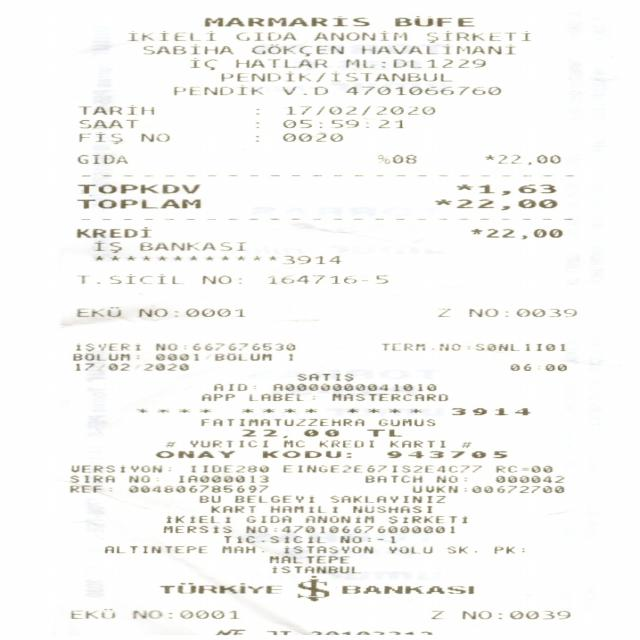text: (220, 71, 450, 81), (199, 15, 375, 27), (242, 525, 454, 533), (282, 464, 480, 472), (360, 44, 513, 54), (434, 198, 556, 210), (341, 58, 484, 68), (78, 273, 188, 286), (283, 106, 432, 115), (159, 582, 280, 593), (200, 418, 362, 426), (272, 383, 433, 391), (280, 119, 405, 129), (345, 86, 499, 94), (77, 183, 196, 193), (426, 31, 529, 42), (78, 199, 200, 208), (94, 254, 276, 260), (130, 609, 239, 619), (138, 241, 245, 251), (249, 44, 341, 55), (458, 610, 570, 619), (465, 308, 575, 317), (136, 308, 245, 317), (456, 184, 554, 194), (266, 275, 387, 283), (154, 343, 292, 350), (128, 485, 266, 492), (386, 450, 505, 458), (472, 484, 567, 494), (312, 30, 406, 40), (169, 85, 263, 95), (330, 393, 446, 401), (234, 58, 326, 68), (469, 228, 561, 238), (75, 226, 151, 238), (342, 586, 472, 593), (242, 429, 340, 438), (393, 15, 473, 26), (128, 30, 213, 40), (78, 104, 152, 115), (142, 44, 232, 53), (70, 464, 170, 472), (223, 535, 323, 543), (75, 363, 186, 370), (483, 154, 559, 164), (474, 344, 565, 352), (104, 546, 206, 553), (282, 545, 370, 553), (261, 450, 348, 458), (329, 496, 443, 502), (154, 450, 234, 458), (351, 505, 430, 513), (450, 407, 528, 415), (189, 440, 267, 448), (178, 475, 266, 482), (279, 254, 340, 264), (190, 464, 266, 472), (272, 566, 358, 573), (411, 484, 471, 494), (74, 132, 121, 144), (281, 133, 342, 142), (234, 495, 312, 502), (388, 516, 466, 523), (236, 32, 294, 41), (74, 306, 121, 317), (75, 343, 139, 351), (76, 154, 126, 164), (67, 609, 116, 619), (211, 353, 271, 361), (386, 440, 445, 448), (78, 120, 136, 128), (376, 418, 433, 426), (72, 353, 137, 360), (510, 363, 565, 371), (297, 373, 352, 381), (340, 535, 394, 543), (494, 476, 562, 482), (90, 240, 121, 253), (304, 516, 371, 522), (163, 526, 230, 532), (239, 408, 319, 413), (281, 86, 325, 95), (269, 506, 335, 512), (318, 440, 374, 447), (495, 465, 551, 472), (364, 475, 420, 482), (164, 516, 229, 522), (186, 58, 218, 70), (69, 475, 115, 483), (347, 408, 420, 413), (147, 131, 175, 144), (248, 393, 300, 400), (200, 275, 239, 284), (69, 485, 112, 493), (210, 505, 253, 513), (376, 154, 414, 163), (218, 544, 252, 554), (381, 344, 424, 351), (388, 546, 431, 553), (134, 408, 208, 412), (154, 354, 196, 361), (305, 556, 347, 563), (212, 384, 253, 391), (245, 516, 289, 522), (366, 429, 401, 436), (200, 393, 232, 400), (268, 556, 300, 563), (432, 307, 452, 318), (493, 546, 522, 553), (128, 475, 156, 482), (446, 546, 474, 553), (281, 440, 305, 448), (432, 344, 458, 351), (436, 476, 465, 482), (214, 628, 242, 634), (426, 610, 444, 619), (198, 495, 220, 502), (162, 441, 177, 448), (252, 108, 262, 115), (250, 135, 260, 142), (252, 122, 262, 128), (286, 353, 292, 361), (462, 442, 469, 447), (310, 395, 316, 400)
